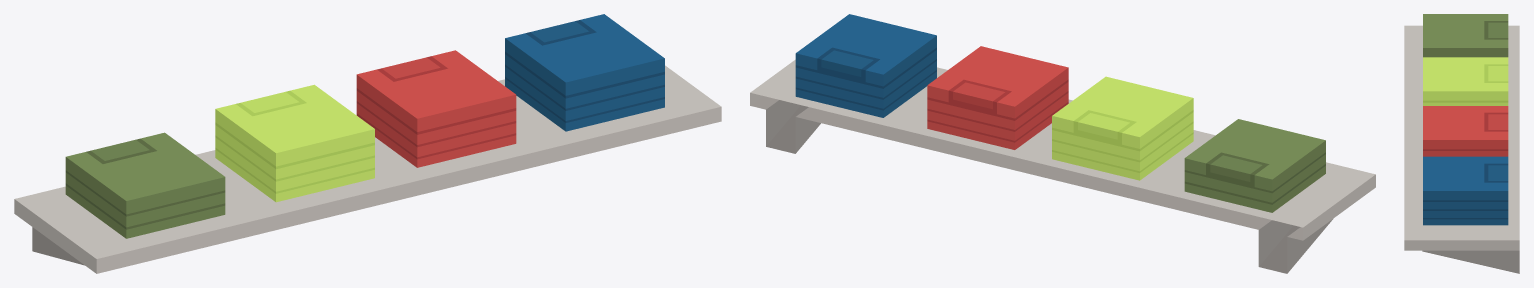
The model's file is ShirtShelf3.glb.
The picture shows the model from 3 angles, left to right: view 1: azimuth 30°, elevation 25°; view 2: azimuth 150°, elevation 25°; view 3: azimuth 270°, elevation 25°; orthographic projection. The views are drawn at different scales.
Visible parts, largest first — view 1: SI_Prop_Shirt_Shelf_03; view 2: SI_Prop_Shirt_Shelf_03; view 3: SI_Prop_Shirt_Shelf_03.
Boxes of the visible parts, x1,y1,x2,y2 form: SI_Prop_Shirt_Shelf_03: (14, 14, 721, 273); SI_Prop_Shirt_Shelf_03: (750, 14, 1375, 273); SI_Prop_Shirt_Shelf_03: (1404, 14, 1519, 273).
Bounding box in the file's own units: 0.0388 × 0.00627 × 0.00883.
Materials: 1 (1 with a texture image).
